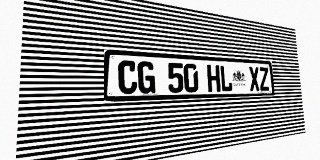0: (183, 63, 199, 93)
5: (168, 62, 184, 93)
C: (118, 60, 137, 94)
G: (137, 61, 155, 94)
H: (207, 64, 221, 92)
L: (220, 65, 233, 92)
X: (249, 67, 260, 91)
Z: (259, 67, 270, 91)
